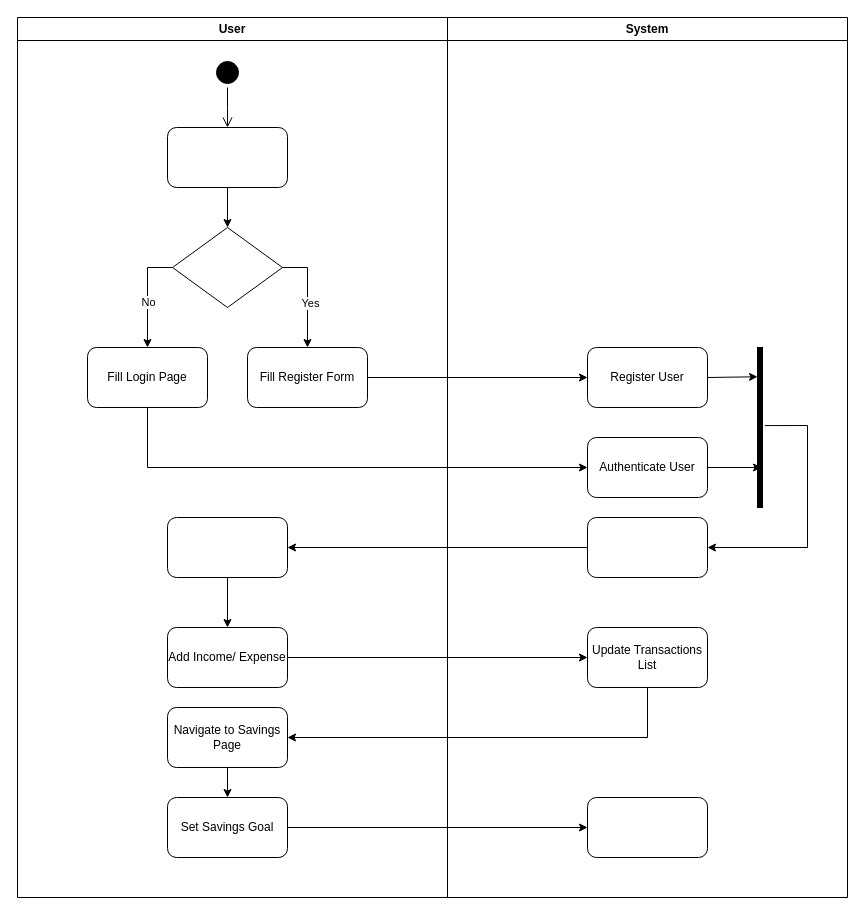
This 865x915 diagram has some shape labels left out. The shapes that lost their labels are listed below. From the top down, each one's box as (x1, y1, x2, y2) in pixels, then its label:
(166, 126, 288, 188): Open Website
(172, 226, 282, 308): New User?
(166, 516, 288, 578): Navigate to Transactions Page
(586, 516, 708, 578): Display Dashboard
(586, 796, 708, 858): Update Savings Goal List
